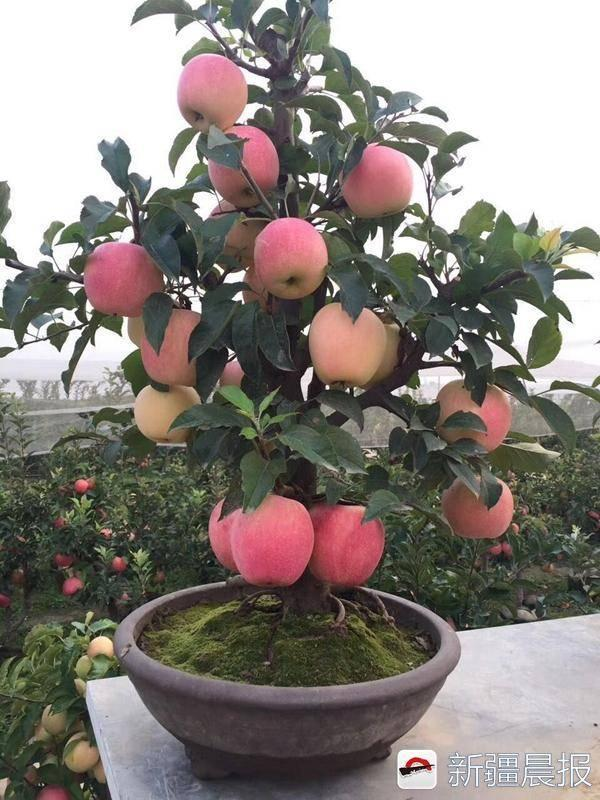apple: (208, 487, 314, 587), (307, 500, 384, 588), (308, 303, 387, 385), (252, 216, 327, 300), (208, 122, 281, 208), (432, 378, 511, 454), (340, 143, 416, 220), (138, 311, 215, 387), (84, 241, 161, 317), (176, 52, 247, 134), (441, 463, 514, 539), (135, 383, 203, 447), (62, 736, 99, 773)
